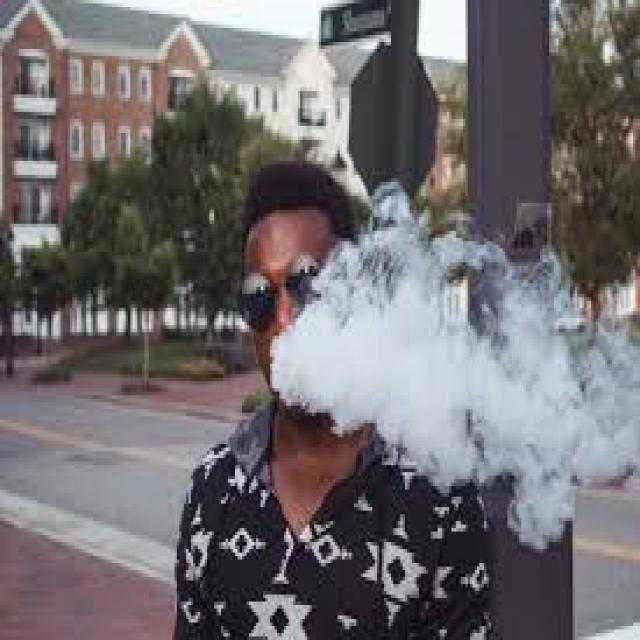Smoke: (268, 185, 640, 549)
